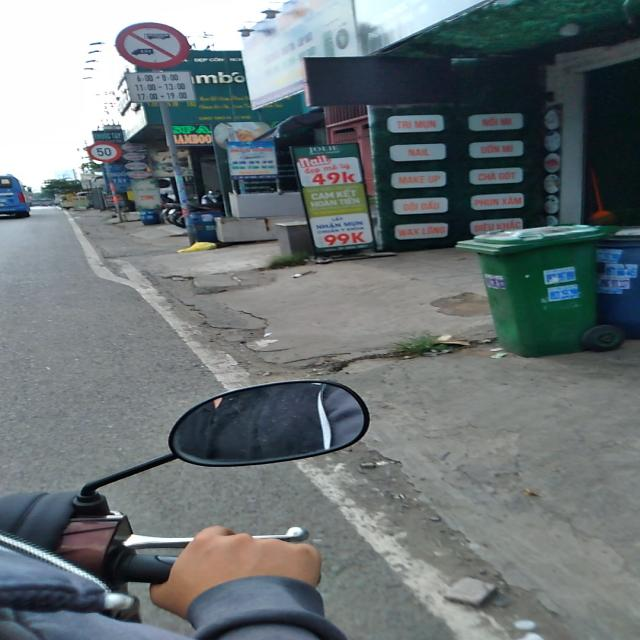Cam con lai: (116, 22, 191, 69)
Toc do toi da: (86, 141, 122, 162)
